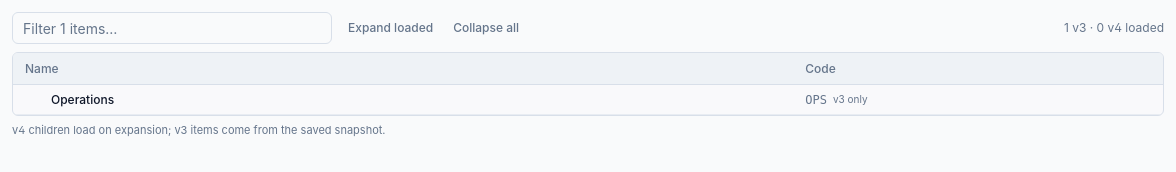
Test case: ListItemsTree › upgrades a selected v3-only row once its v4 counterpart finishes loading
Note: The v3 snapshot names the row, so it can be selected before v4 answers.
Step 1. Click the button with aria-label "View list item Operations" → (83, 100), box [51,92,114,108]
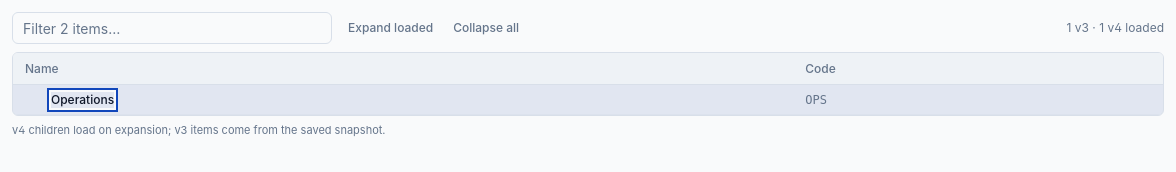
Expected: the number of buttons "Operations" is 1, [51,92,114,108]
Expected: the text "v3 only" is gone
